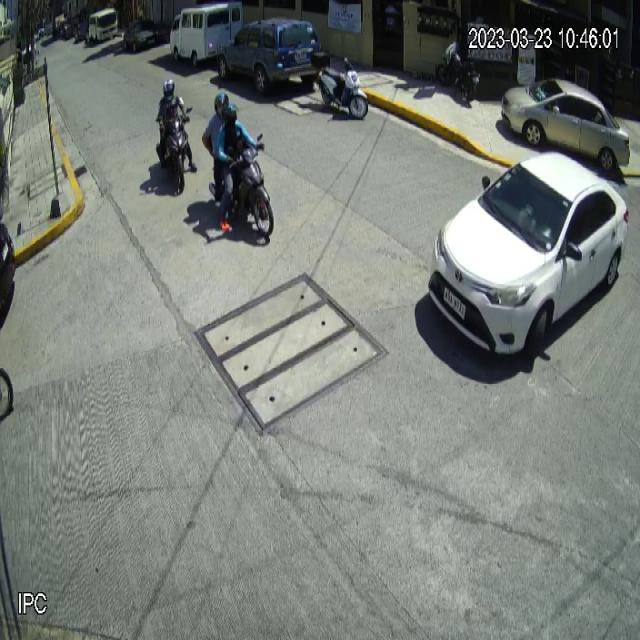Car: (427, 150, 629, 358), (501, 78, 630, 171), (216, 16, 323, 96)
Motorcycle: (207, 131, 274, 237), (312, 54, 368, 120), (155, 105, 193, 194)
Van: (169, 0, 242, 69)
